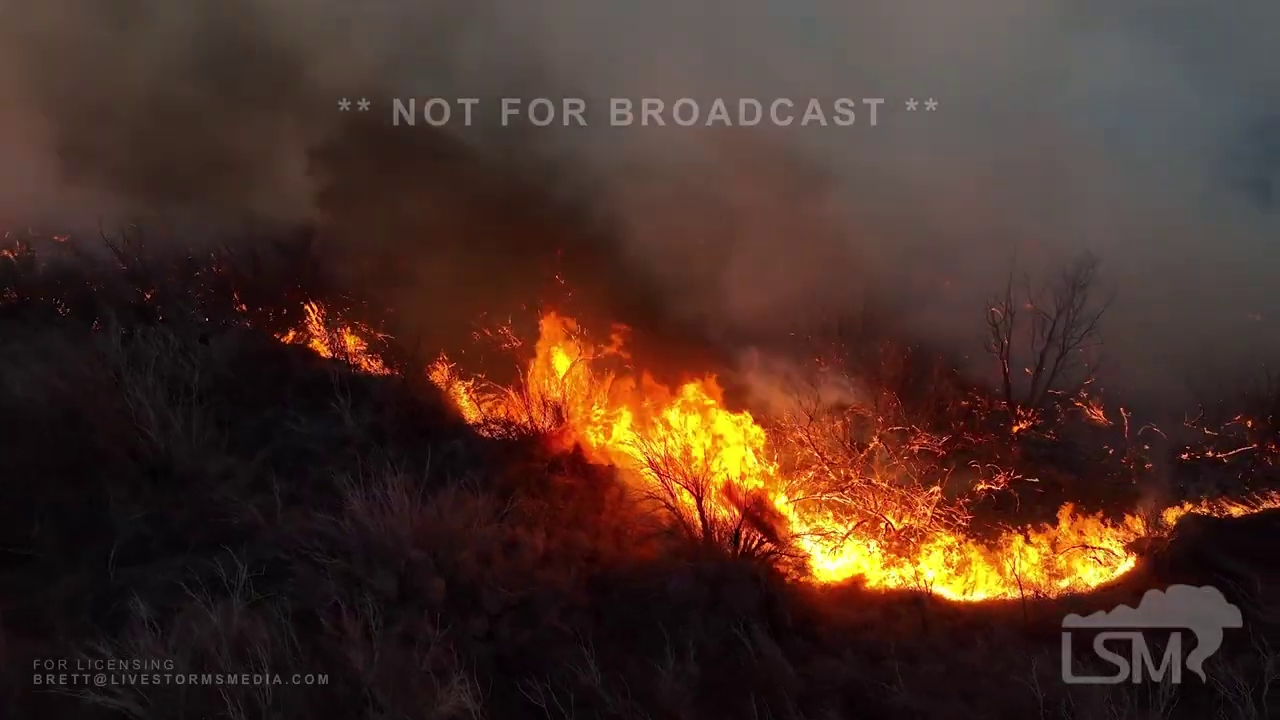forest_fire: (427, 311, 1279, 599), (281, 304, 386, 371), (1075, 398, 1104, 421), (976, 481, 991, 488), (994, 478, 998, 483), (840, 469, 846, 472)
